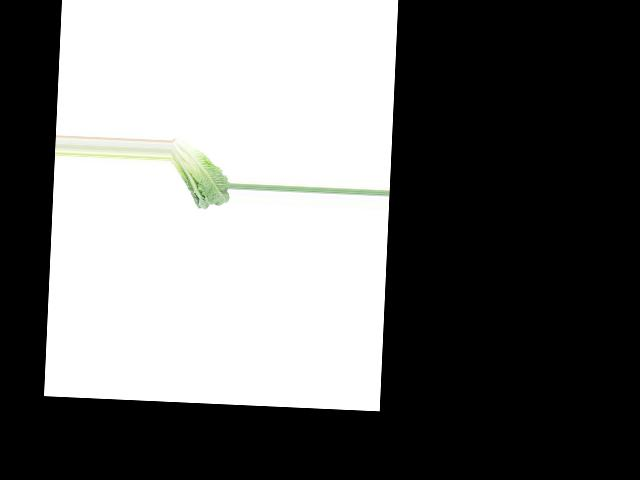lettuce: (168, 137, 231, 211)
